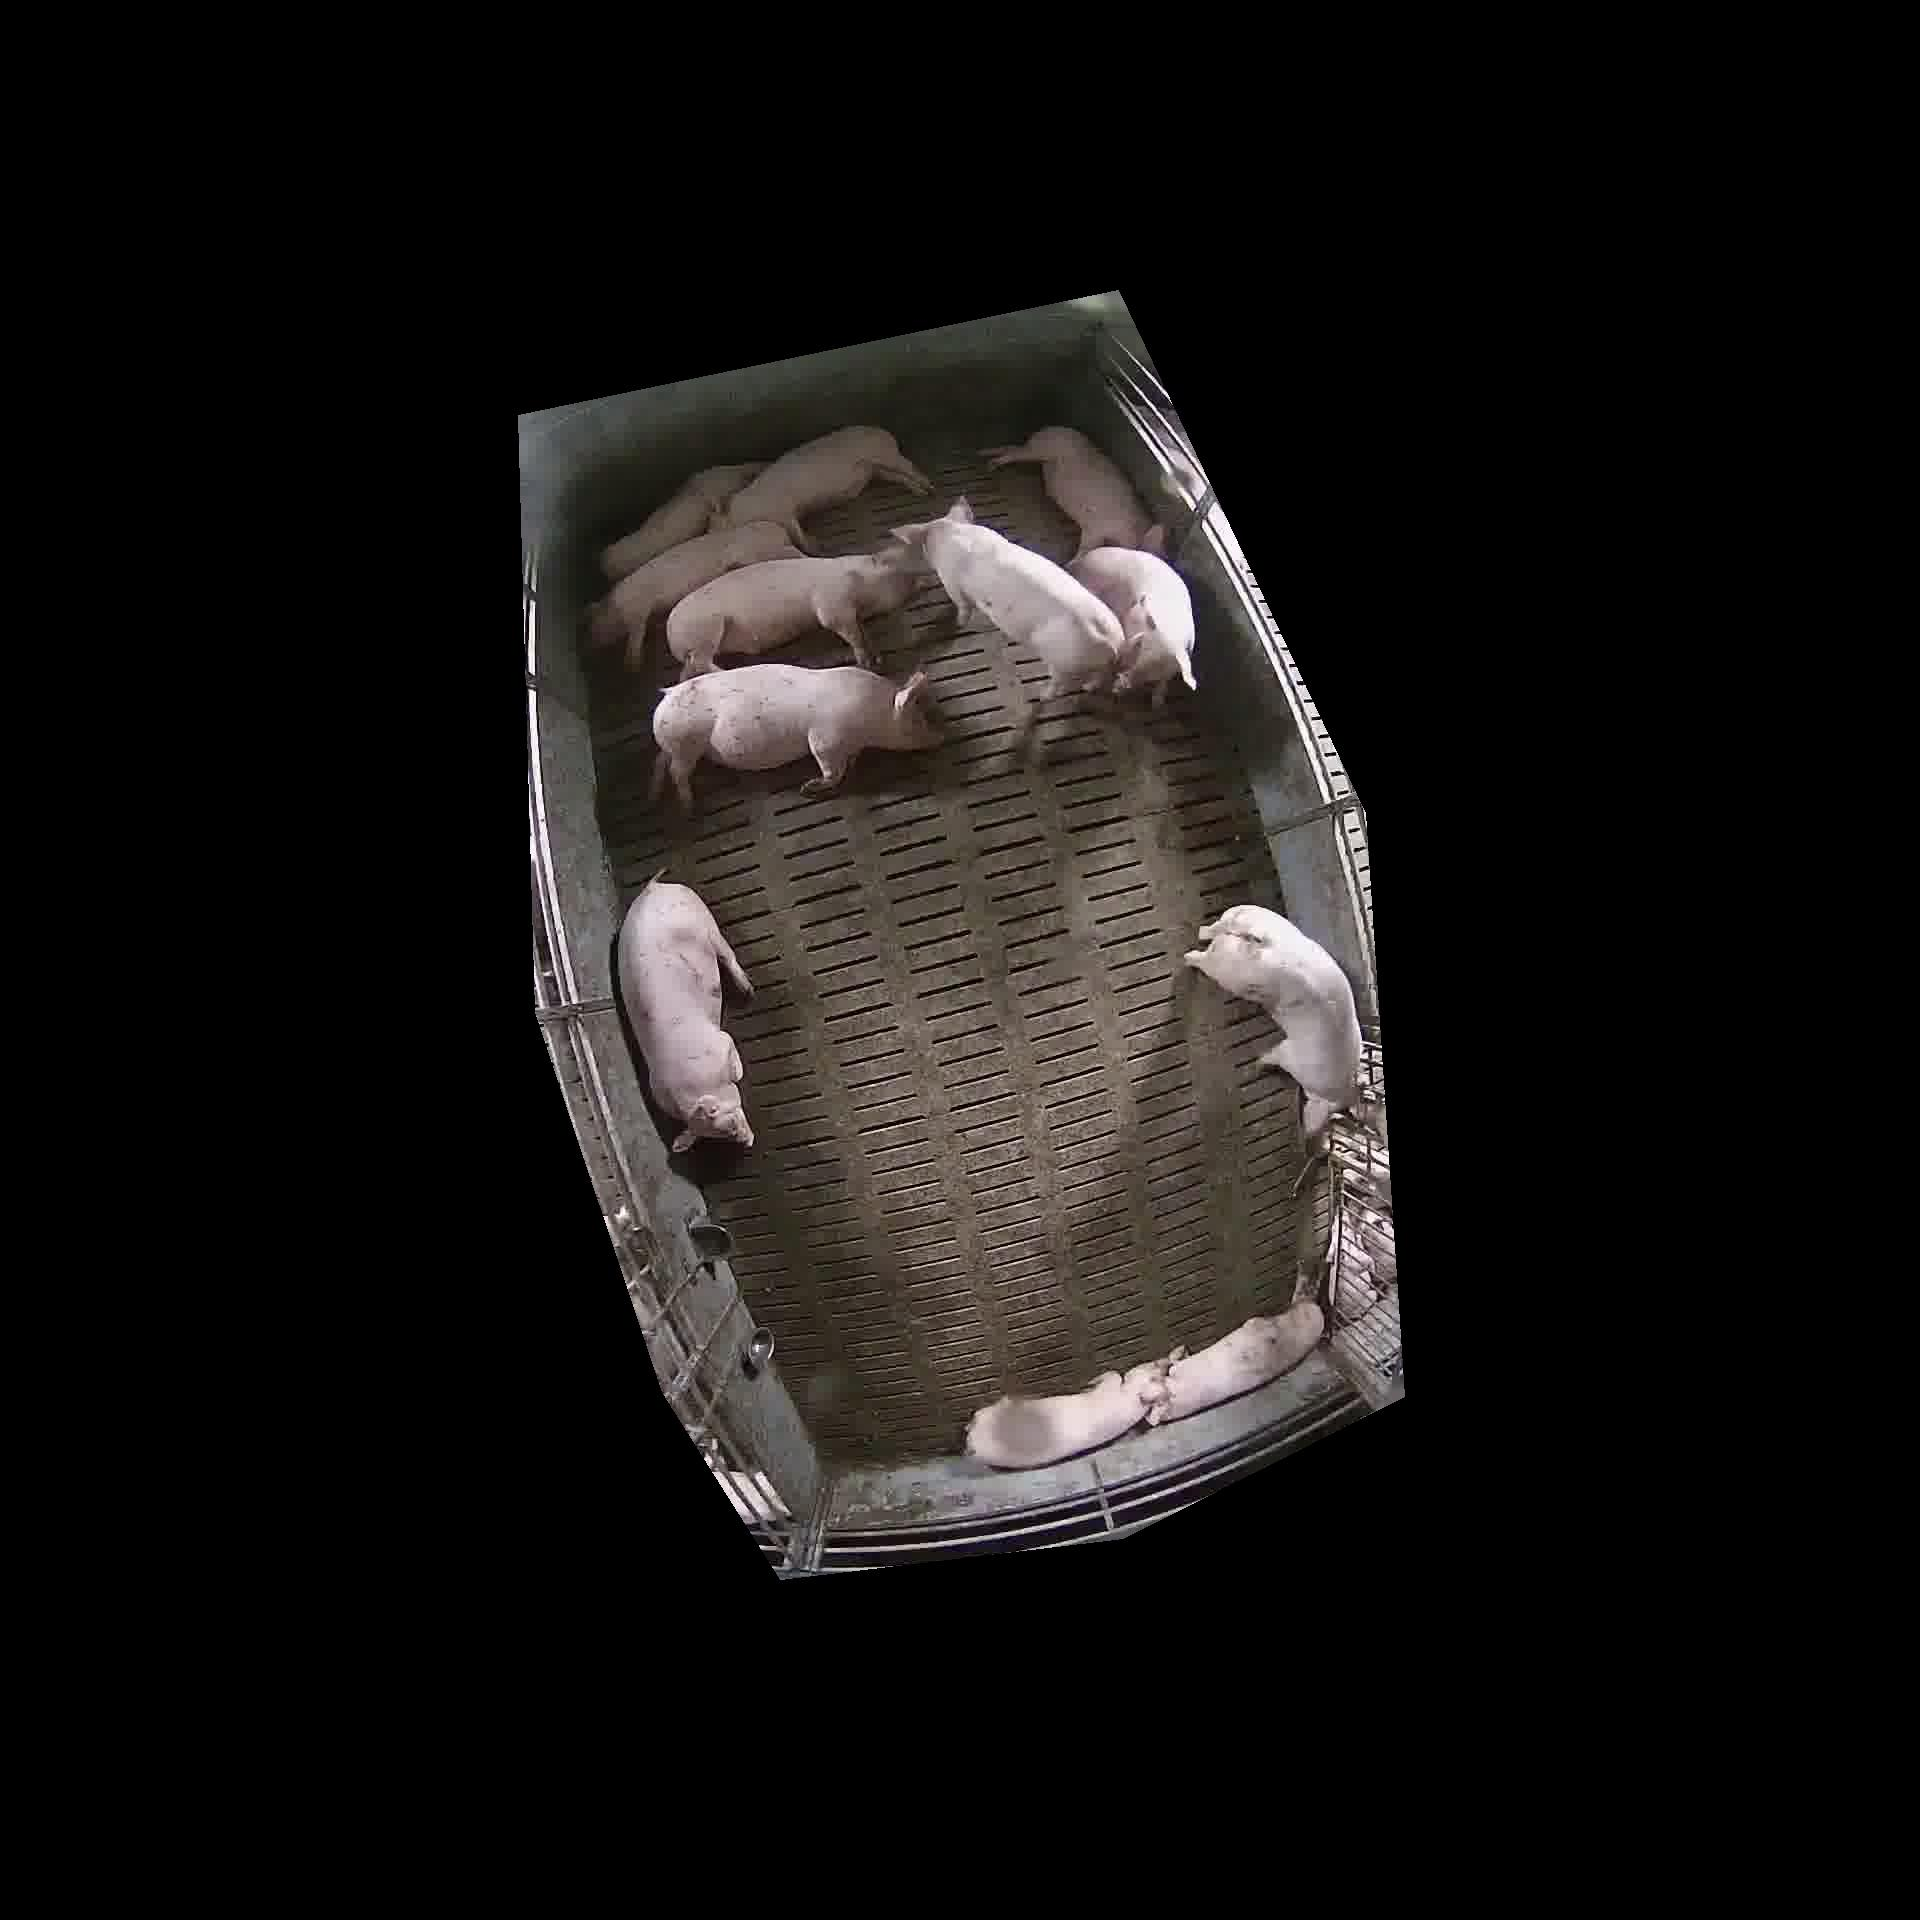pig: (893, 498, 1124, 700), (652, 665, 942, 807), (1187, 905, 1361, 1139), (617, 879, 753, 1150), (666, 543, 932, 679), (587, 520, 800, 668), (717, 425, 930, 547), (985, 425, 1166, 554), (1143, 1299, 1322, 1426), (965, 1357, 1166, 1468), (1067, 547, 1196, 707), (600, 462, 763, 580)
